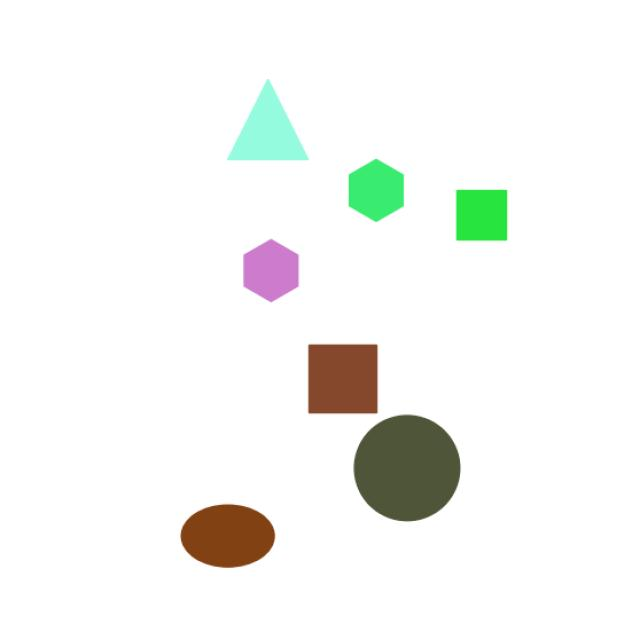Circle: (325, 402, 469, 543)
Hexagon: (220, 228, 312, 306), (336, 146, 417, 233)
Oval: (166, 491, 292, 578)
Triangle: (199, 68, 314, 180)
square: (432, 176, 538, 271), (296, 329, 392, 425)
